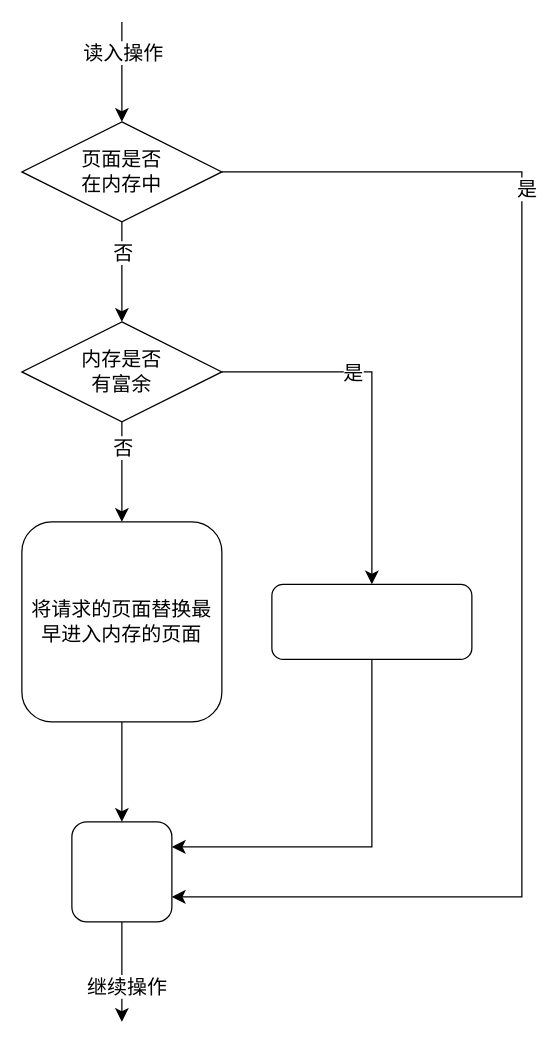
Image size: 558x1043. Some labels were removed from this diagram. Here are the shapes that lost their labels. From the top down, the centre of each, then its label:
At (371,621): "调入页面".
At (121,871): "执行目标操作".
